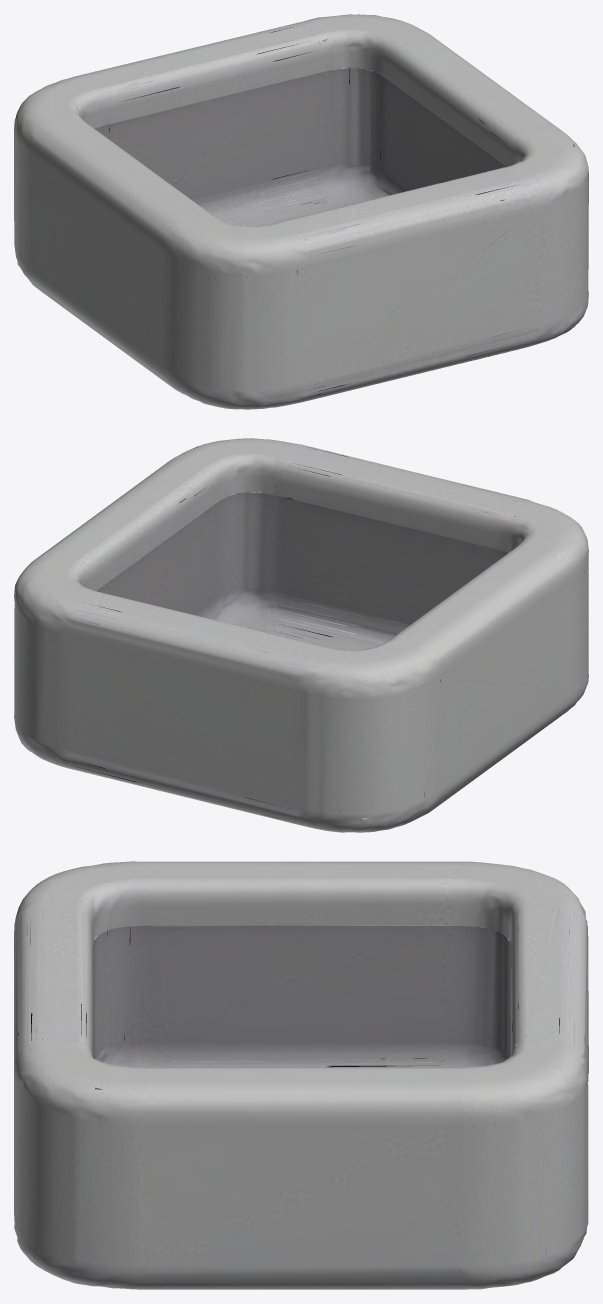
The model's file is bin.glb.
The picture shows the model from 3 angles, top to bottom: view 1: azimuth 30°, elevation 25°; view 2: azimuth 150°, elevation 25°; view 3: azimuth 270°, elevation 25°; orthographic projection. The views are drawn at different scales.
Visible parts, largest first — view 1: geometry_0; view 2: geometry_0; view 3: geometry_0.
Part boxes in pixels (x1,y1,x2,y2): geometry_0: (14, 14, 588, 409); geometry_0: (14, 438, 588, 832); geometry_0: (14, 861, 588, 1289).
Bounding box in the file's own units: 0.9497 × 0.3804 × 0.9517.
Materials: 1 (1 with a texture image).
